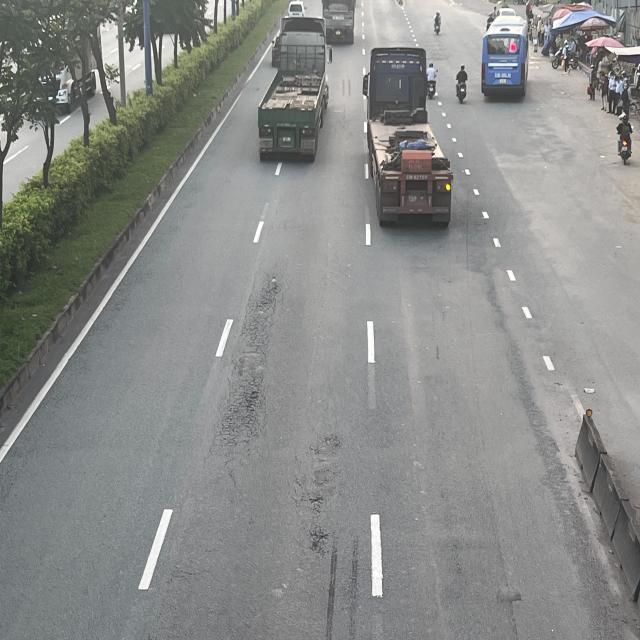coach: (482, 11, 530, 96)
container: (363, 45, 455, 228), (256, 18, 330, 166)
truck: (324, 0, 355, 44)
